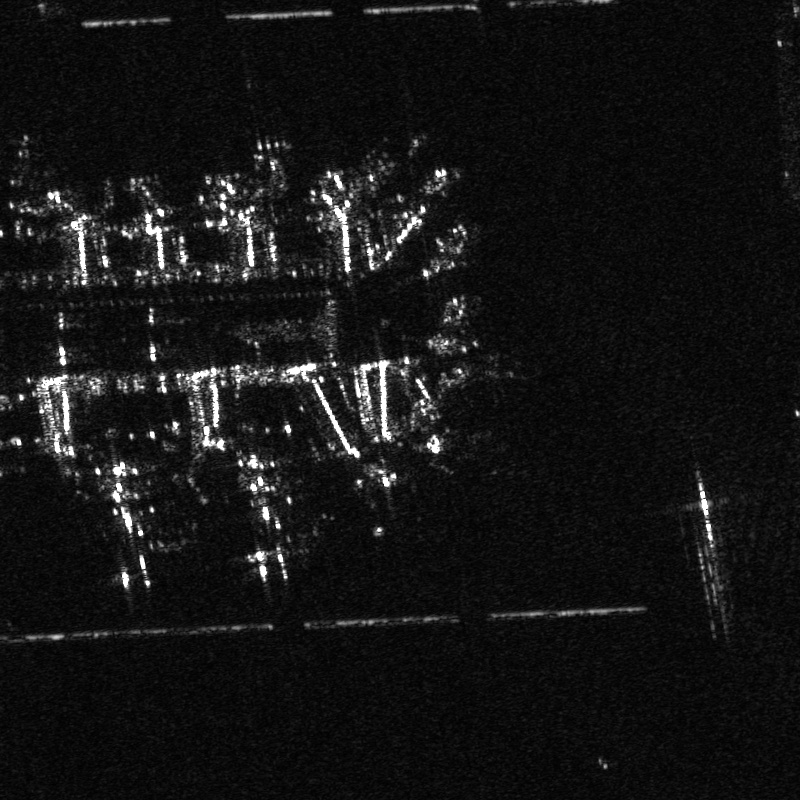Boeing737: (353, 464, 417, 522)
Boeing787: (96, 477, 174, 592)
other: (221, 472, 312, 584)
